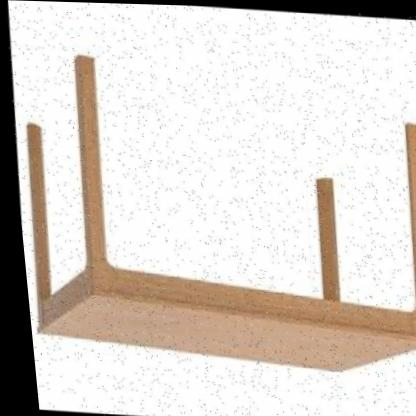Table: (3, 41, 416, 385)
